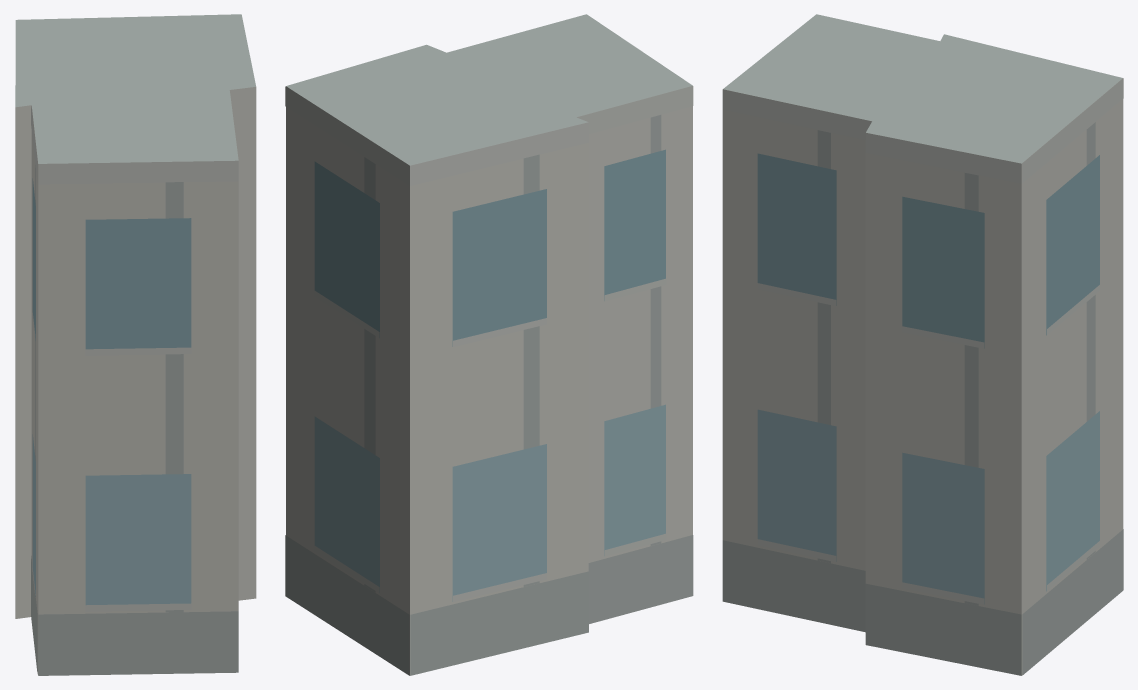
Rendered from survey-upis-32578481.glb.
3 views of the same model, side by side, from view 1: azimuth 30°, elevation 25°; view 2: azimuth 150°, elevation 25°; view 3: azimuth 270°, elevation 25° (orthographic).
Parts seen in each view (by area): view 1: survey-upis-32578481.tmp; view 2: survey-upis-32578481.tmp; view 3: survey-upis-32578481.tmp.
Part boxes in pixels (x1=…): survey-upis-32578481.tmp: x1=15, y1=14, x2=256, y2=675; survey-upis-32578481.tmp: x1=285, y1=14, x2=693, y2=675; survey-upis-32578481.tmp: x1=722, y1=14, x2=1123, y2=675.
Bounding box in the file's own units: 3.83 × 6.1 × 4.33.
